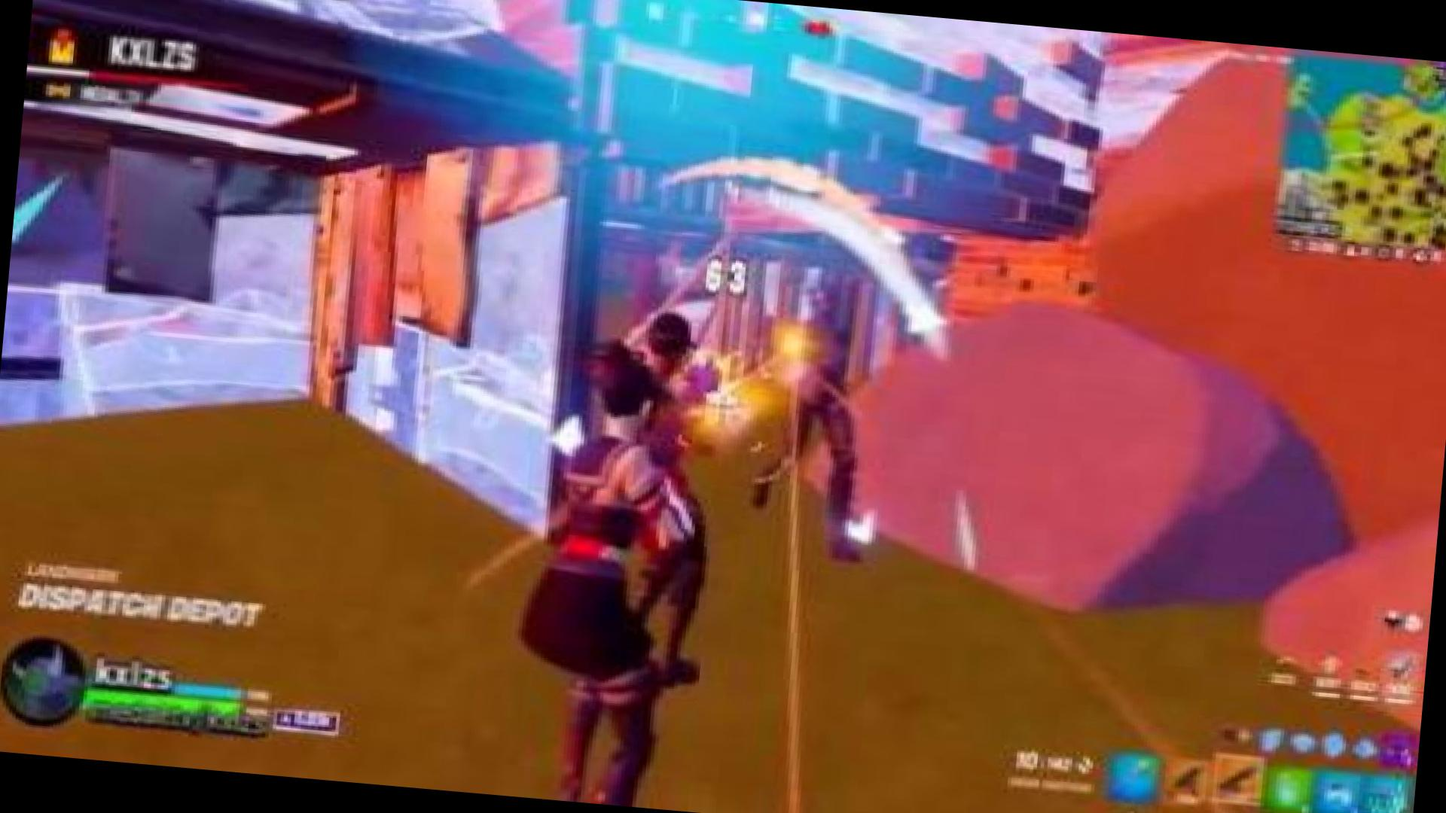player: (778, 274, 876, 557), (537, 371, 695, 451), (635, 311, 703, 379)
